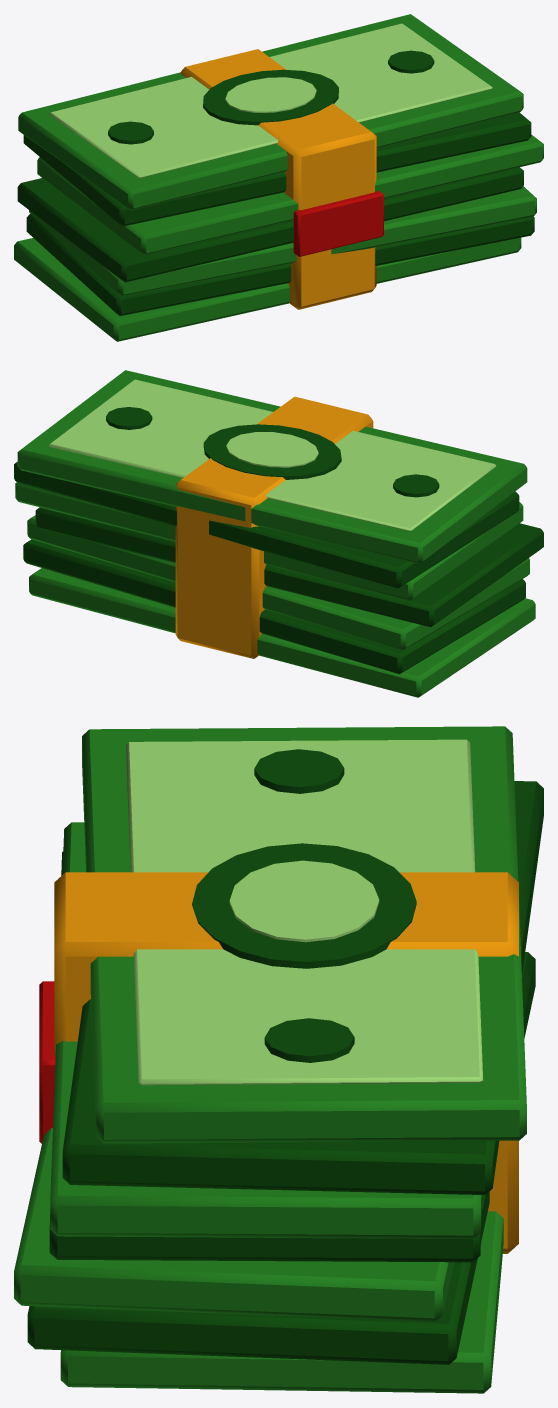
Rendered from CashStack.fbx.
3 renders of one model, top to bottom at view 1: azimuth 30°, elevation 25°; view 2: azimuth 150°, elevation 25°; view 3: azimuth 270°, elevation 25°, orthographic. The views are drawn at different scales.
Parts seen in each view (by area): view 1: CashStack; view 2: CashStack; view 3: CashStack.
Part boxes in pixels (left/top/right/bottom): CashStack: left=14, top=14, right=543, bottom=341; CashStack: left=14, top=370, right=543, bottom=697; CashStack: left=14, top=726, right=543, bottom=1393.
Bounding box in the file's own units: 2.54 × 0.9325 × 1.42.
